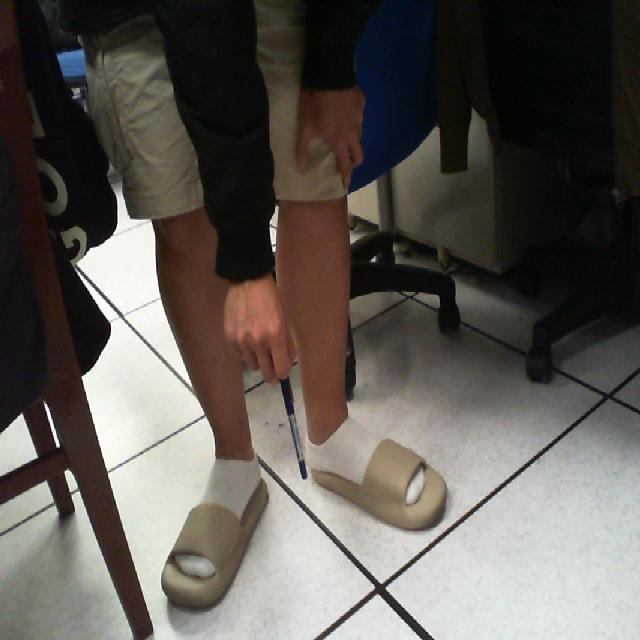Pen: (267, 359, 318, 489)
